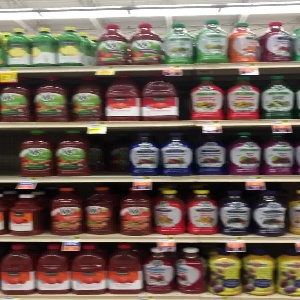void: (85, 125, 134, 176)
